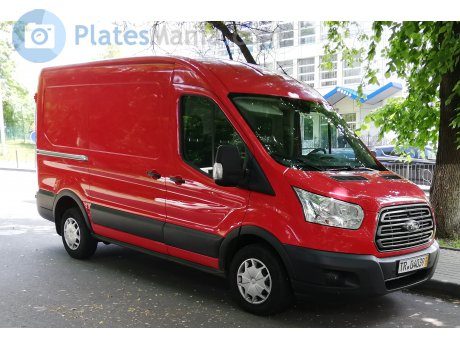License Plates: (399, 255, 430, 270)
